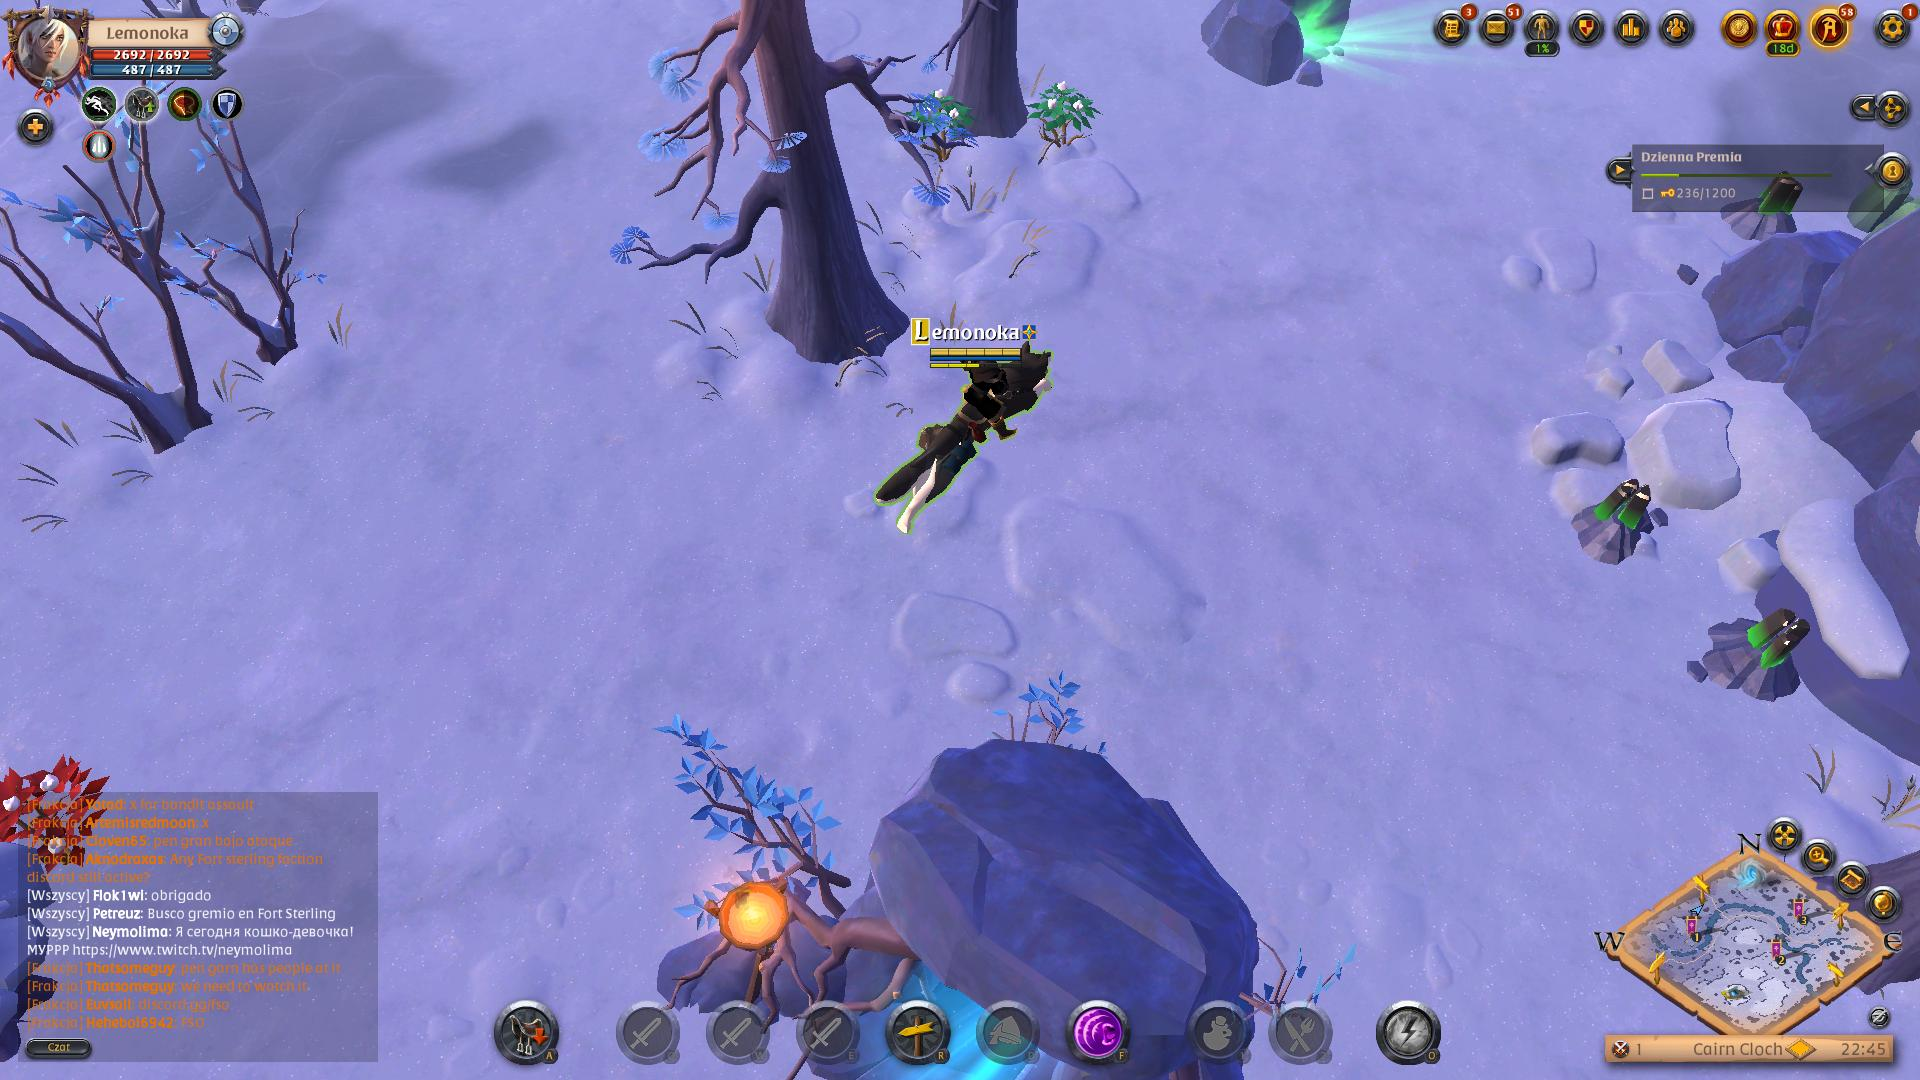fiber tier 3: (1031, 80, 1106, 156)
fiber tier 5: (3, 750, 136, 887)
ore tier 3: (1698, 593, 1818, 716), (1573, 472, 1667, 574), (1735, 161, 1811, 255)
